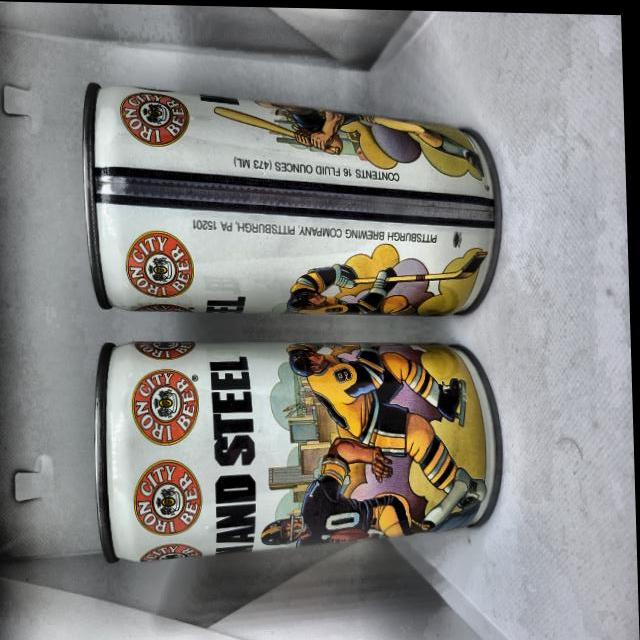Aluminum Can: (92, 328, 510, 575), (83, 79, 509, 318)
